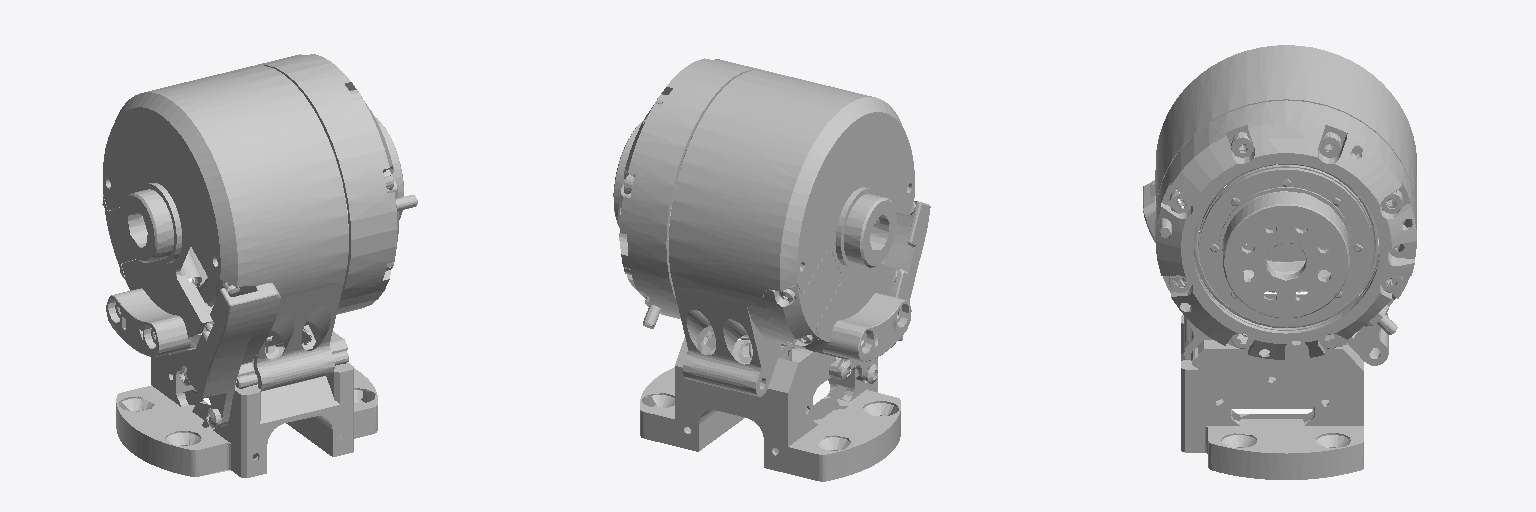
Rendered from sim_ecub_1-1_l_shoulder_1.obj.
3 views of the same model, side by side, from view 1: azimuth 30°, elevation 25°; view 2: azimuth 150°, elevation 25°; view 3: azimuth 270°, elevation 25° (orthographic).
Bounding box in the file's own units: 65.9 × 89.8 × 65.01.